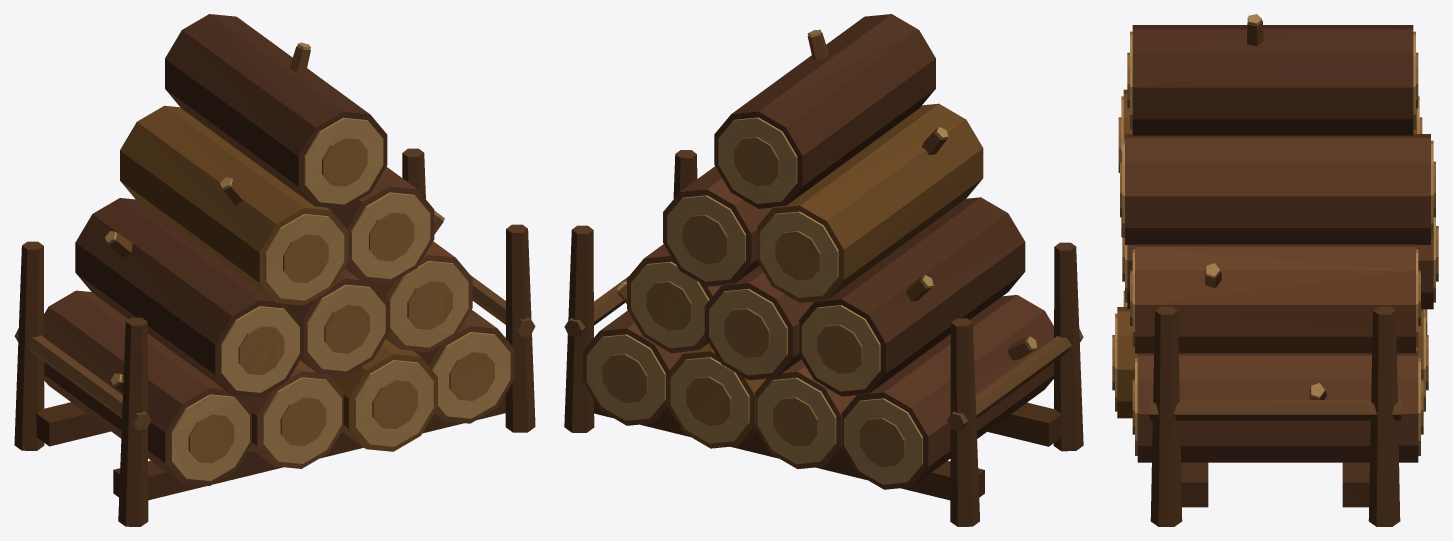
The model's file is wood_stockpile.glb.
3 renders of one model, left to right at view 1: azimuth 30°, elevation 25°; view 2: azimuth 150°, elevation 25°; view 3: azimuth 270°, elevation 25°, orthographic. The views are drawn at different scales.
Parts seen in each view (by area): view 1: wood_stockpile; view 2: wood_stockpile; view 3: wood_stockpile.
Boxes of the visible parts, x1,y1,x2,y2 form: wood_stockpile: (14,14,535,526); wood_stockpile: (564,14,1083,526); wood_stockpile: (1112,14,1438,526).
Bounding box in the file's own units: 2.37 × 2.19 × 1.56.
